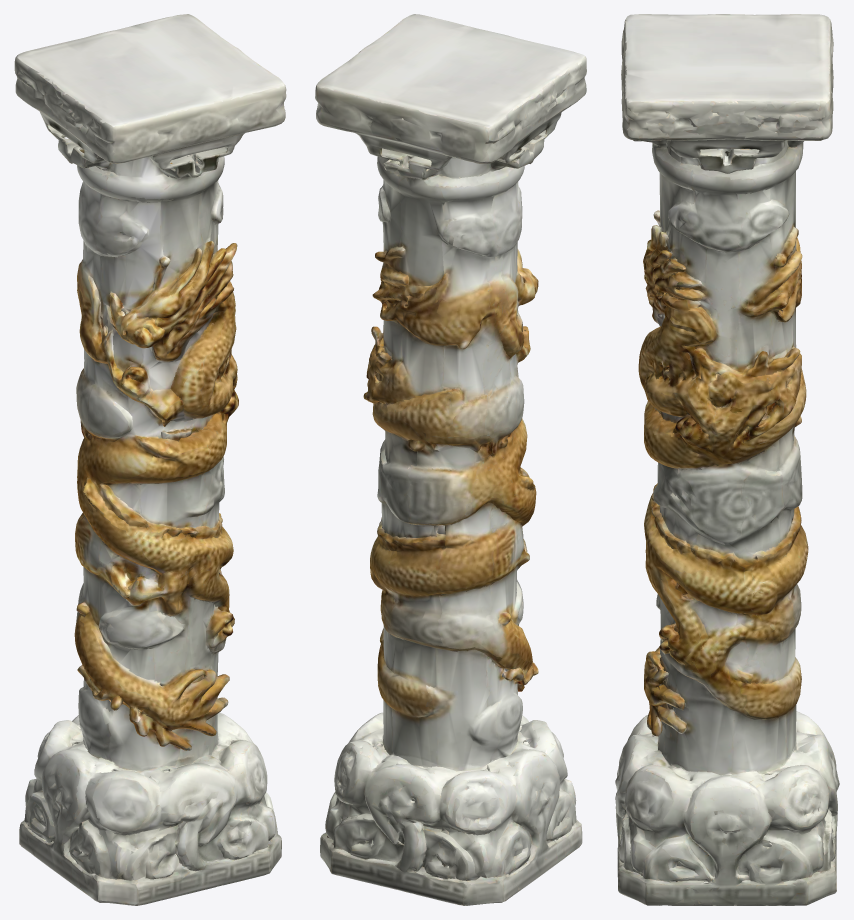
Rendered from jade-pillar.glb.
The picture shows the model from 3 angles, left to right: view 1: azimuth 30°, elevation 25°; view 2: azimuth 150°, elevation 25°; view 3: azimuth 270°, elevation 25°; orthographic projection. The views are drawn at different scales.
Parts seen in each view (by area): view 1: geometry_0; view 2: geometry_0; view 3: geometry_0.
Boxes of the visible parts, box(x1,y1,x2,y2) form: geometry_0: box(14, 14, 286, 905); geometry_0: box(315, 14, 586, 905); geometry_0: box(615, 14, 839, 905).
Bounding box in the file's own units: 0.1142 × 0.45 × 0.114.
Materials: 1 (1 with a texture image).
